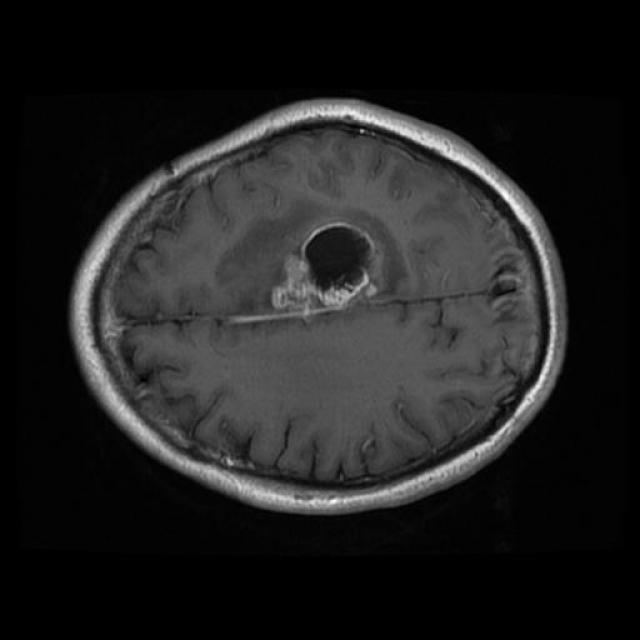Glioma: (233, 222, 377, 323)
